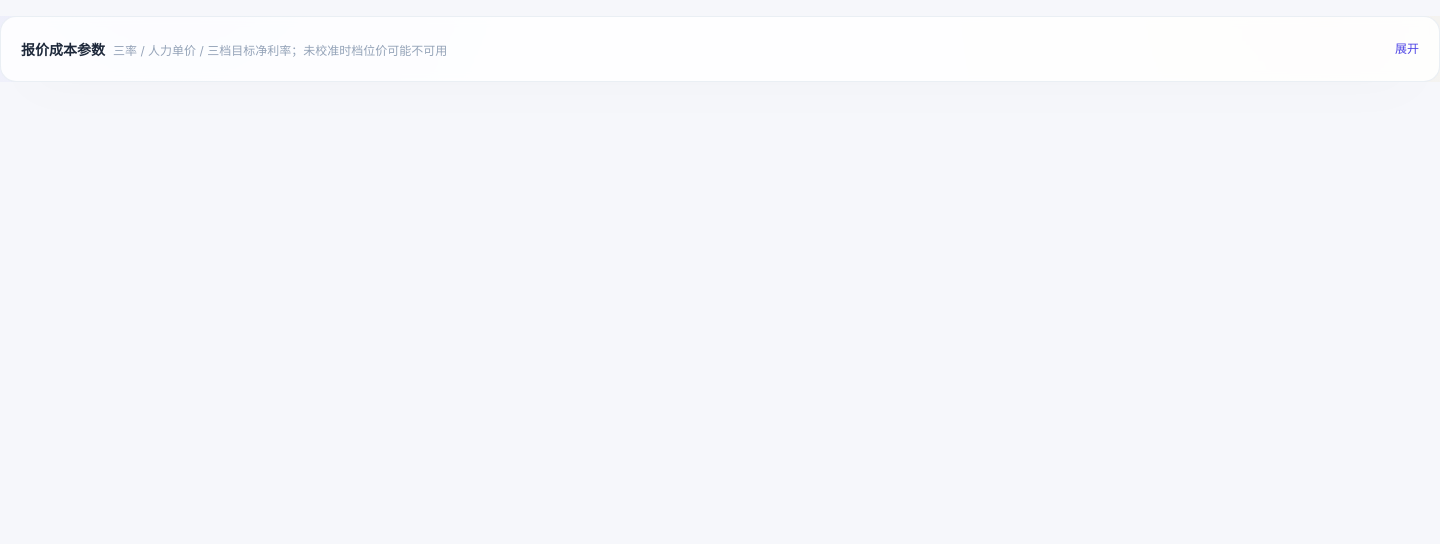
Test: PricingCostSettings › 修改率并新增人力行后，PUT 全量提交两块且形状符合契约
Click the button "报价成本参数" at coordinates (63, 50), box [21, 37, 1419, 61]
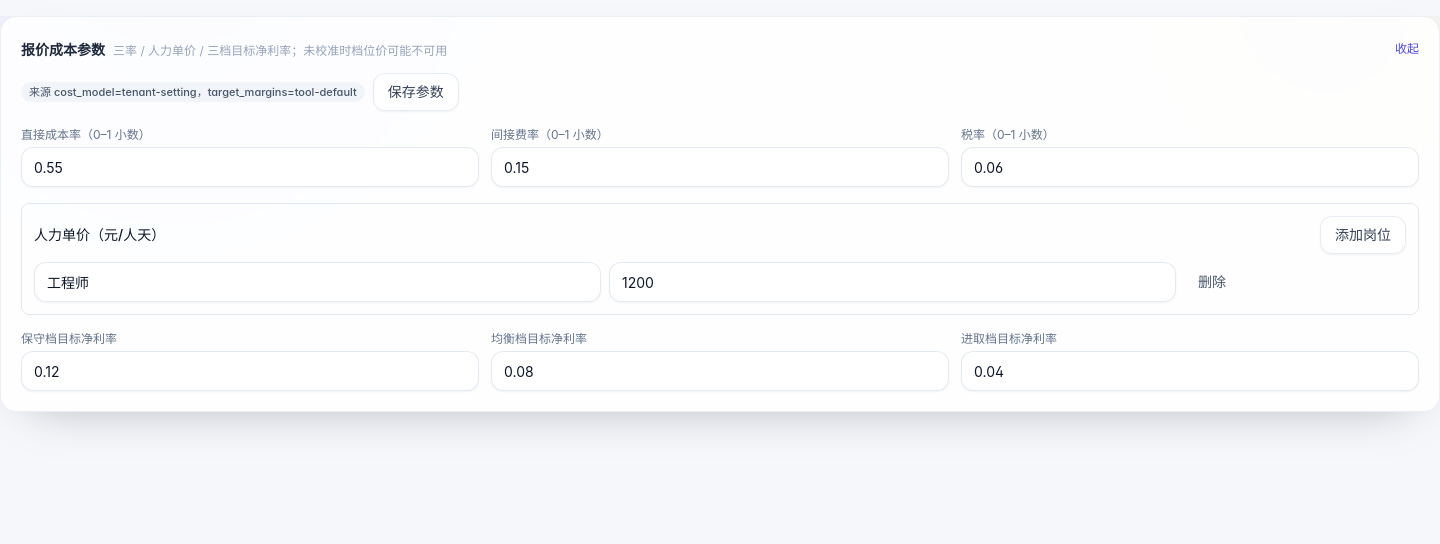
Check: the number field labelled "直接成本率" holds "0.55"
Replace the text in the number field labelled "直接成本率" with "0.6" at coordinates (250, 167), box [21, 147, 479, 187]
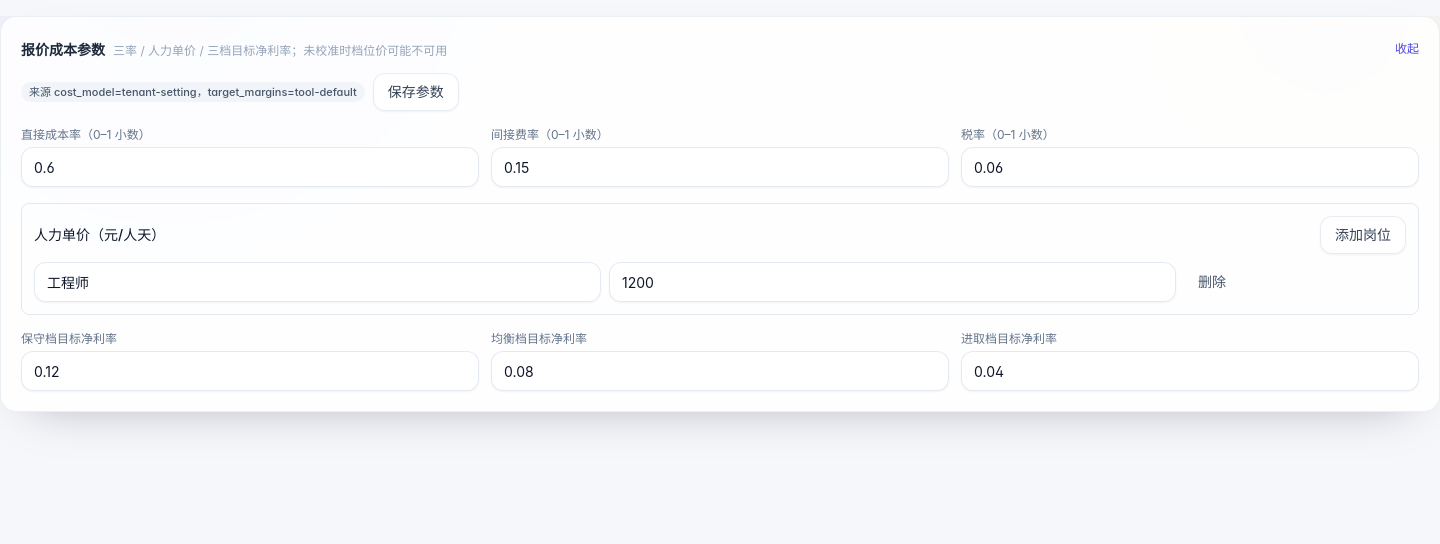
Click the button with aria-label "添加人力单价行" at coordinates (1363, 235), box [1320, 216, 1406, 254]
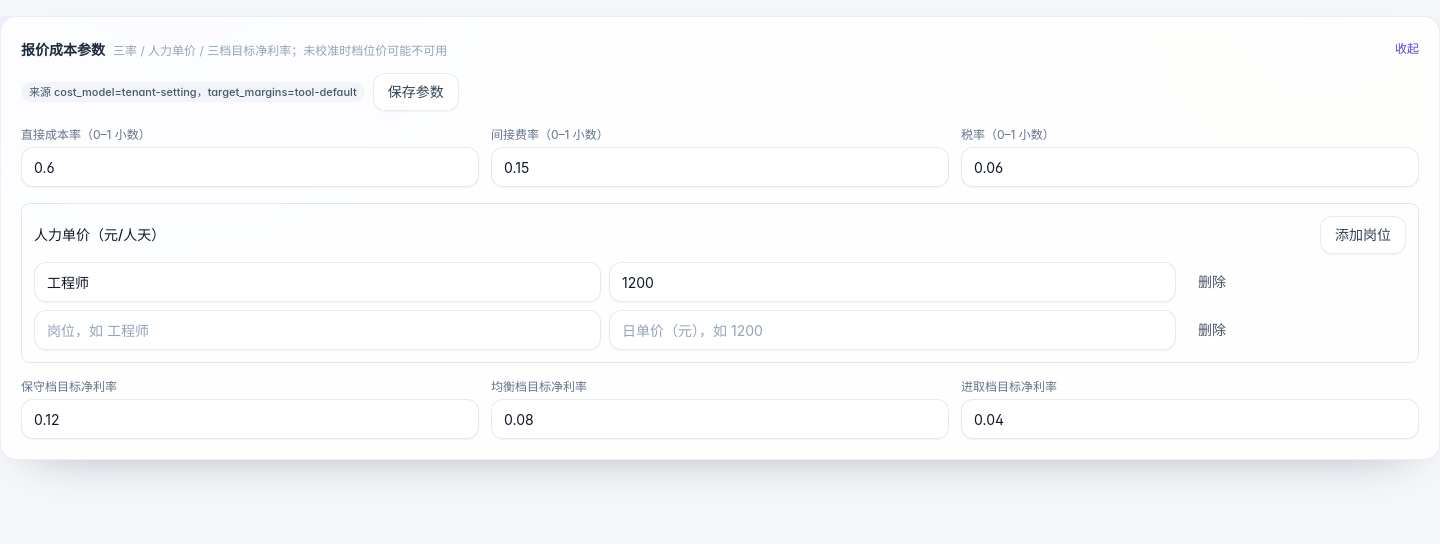
Type "架构师" into the field named "人力岗位第2行" at coordinates (318, 330), box [34, 310, 601, 350]
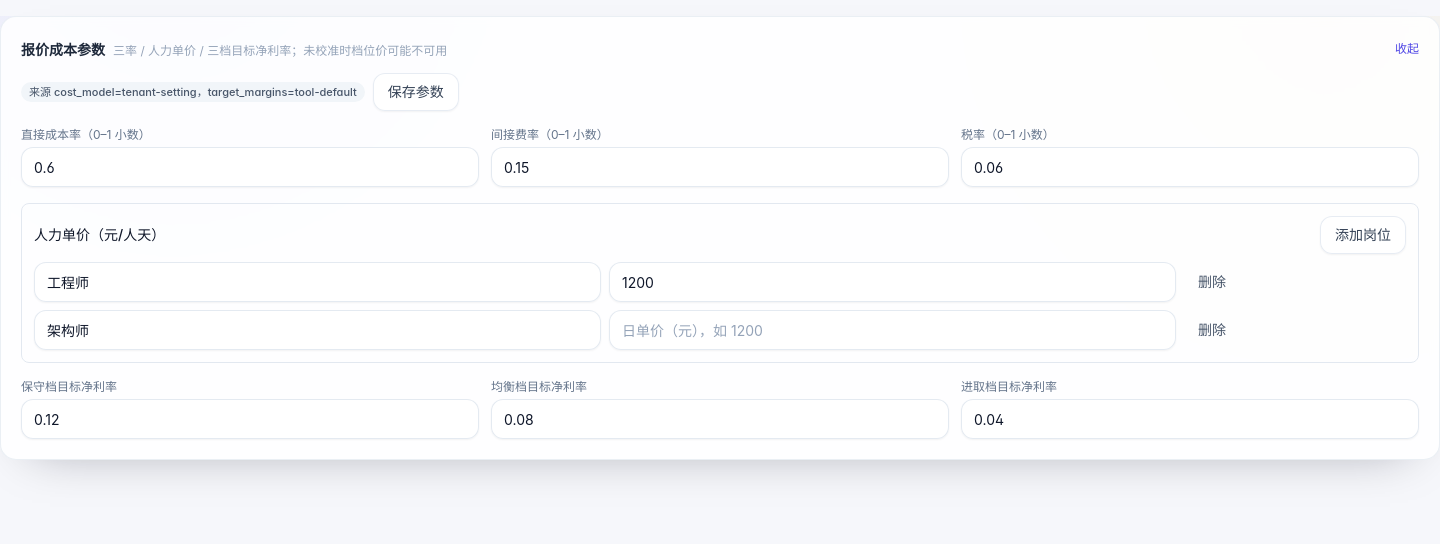
Type "1800" into the field named "人力日单价第2行" at coordinates (892, 330), box [609, 310, 1176, 350]
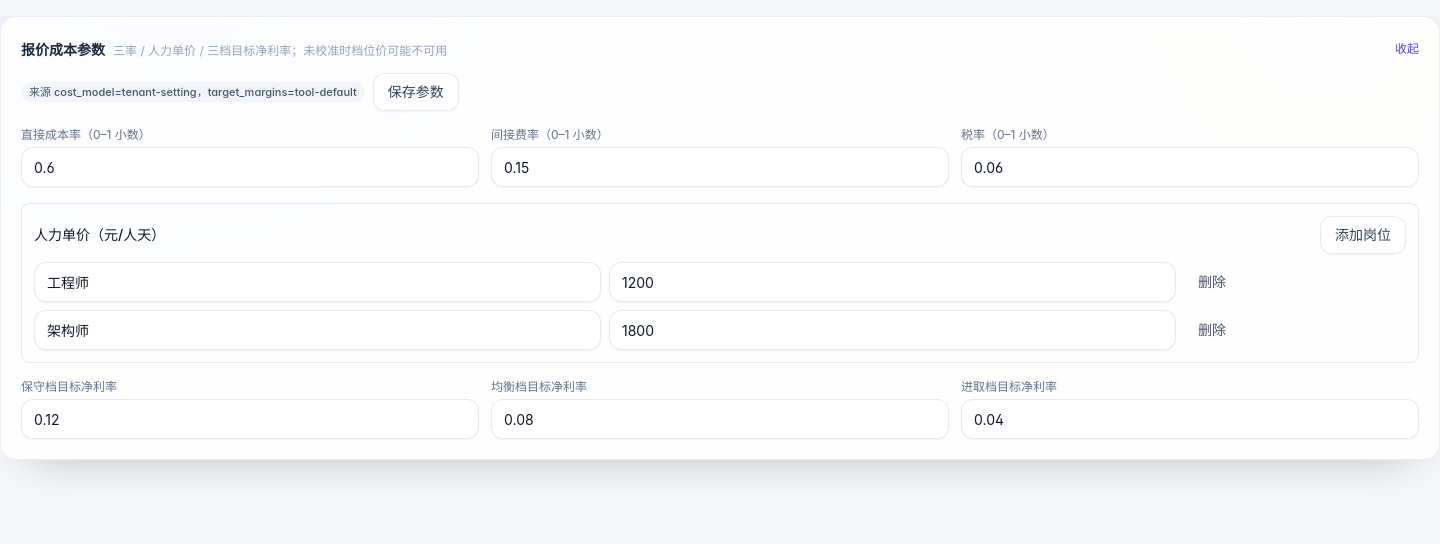
Click the button with aria-label "保存成本参数" at coordinates (416, 92), box [373, 73, 459, 111]
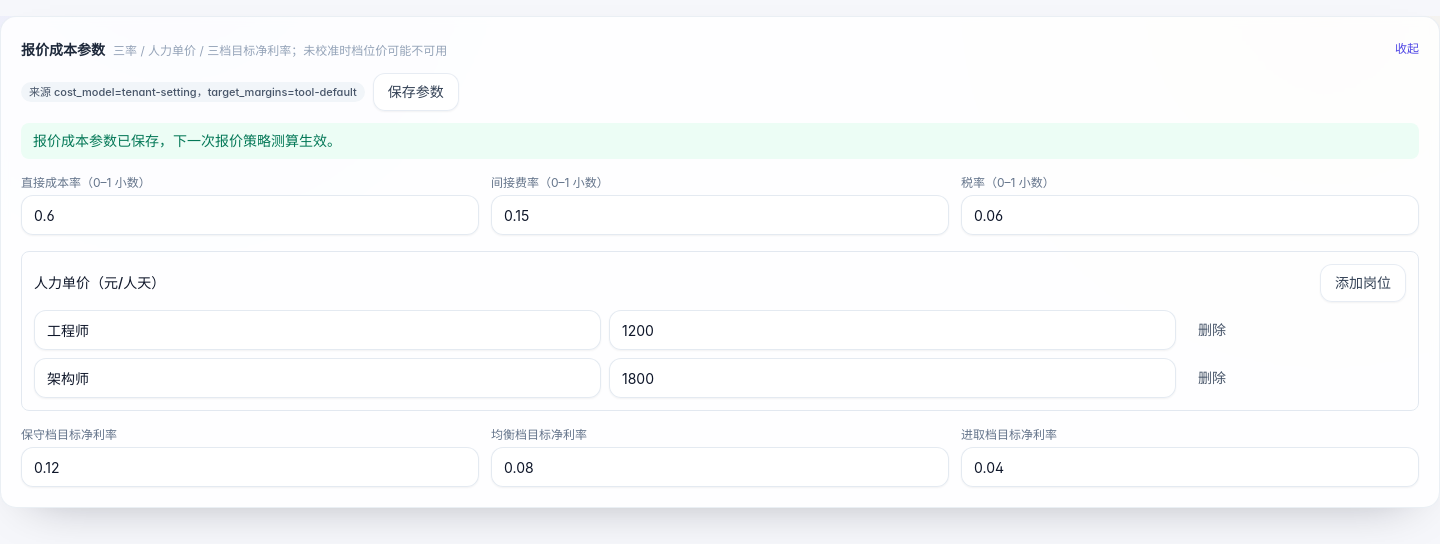
Check: the text "报价成本参数已保存，下一次报价策略测算生效。" is shown, box [21, 123, 1419, 159]
